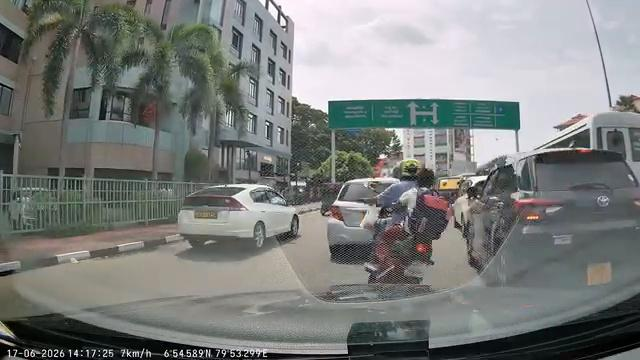no helmet: (413, 165, 437, 193)
